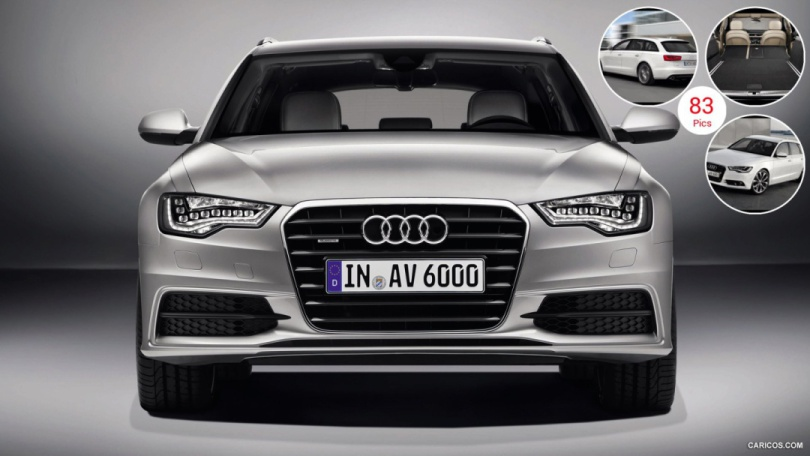audi: (357, 209, 456, 255)
